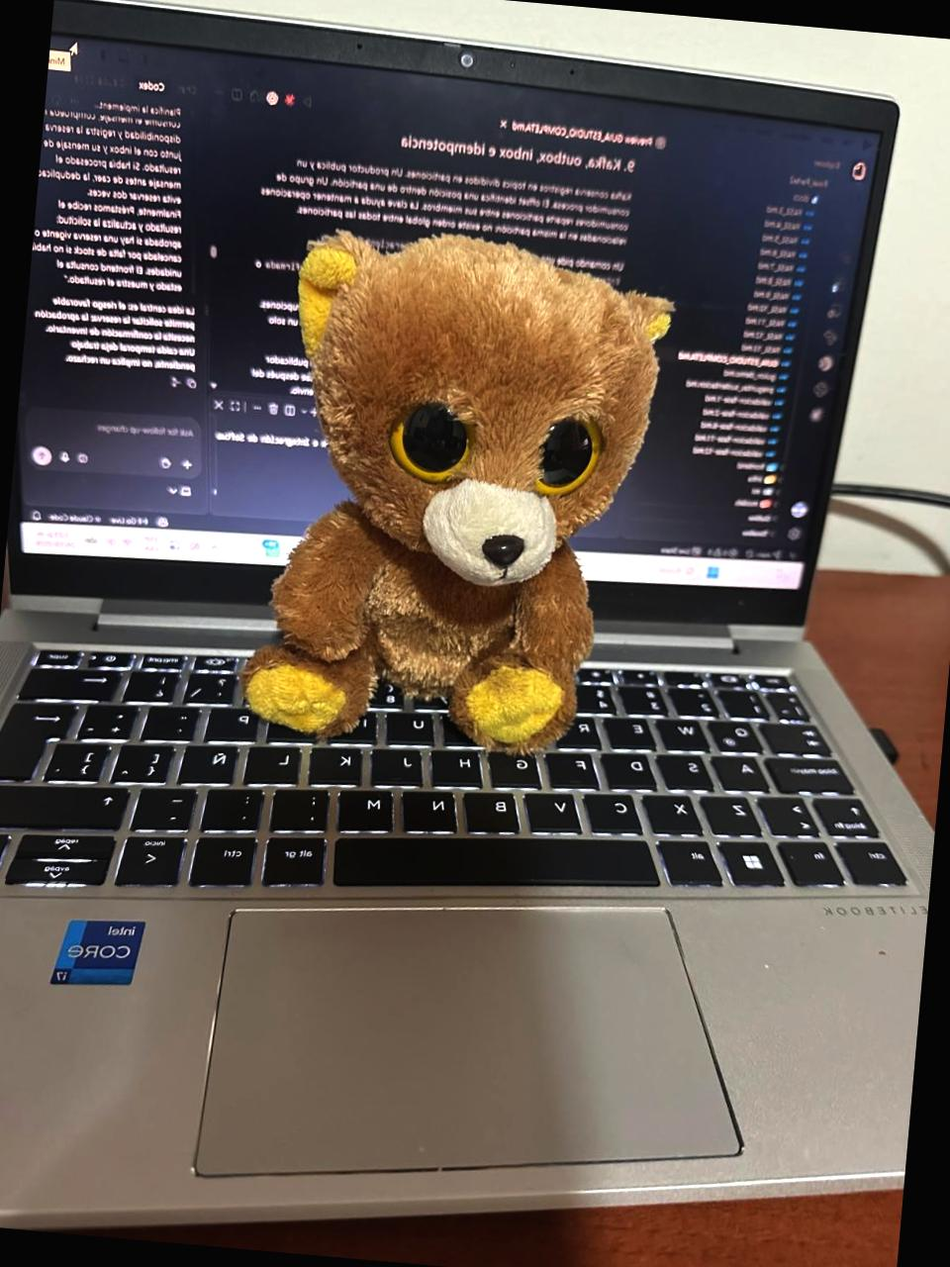peluche_sebastian: (237, 219, 687, 778)
